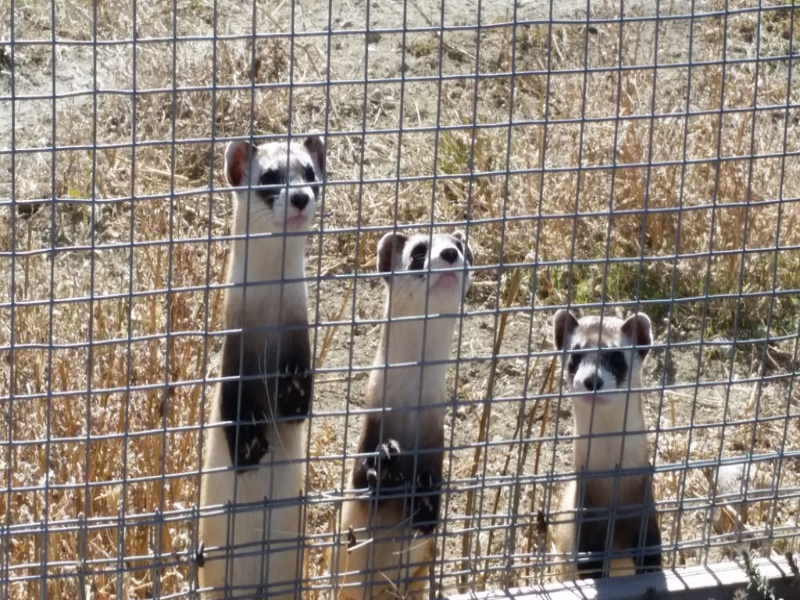minkish: (202, 131, 328, 576), (343, 226, 470, 578), (540, 307, 664, 577)
